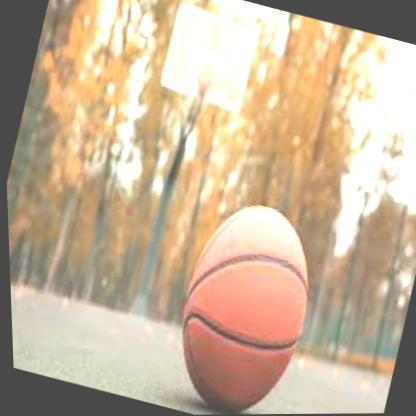basketball: (154, 191, 331, 415)
